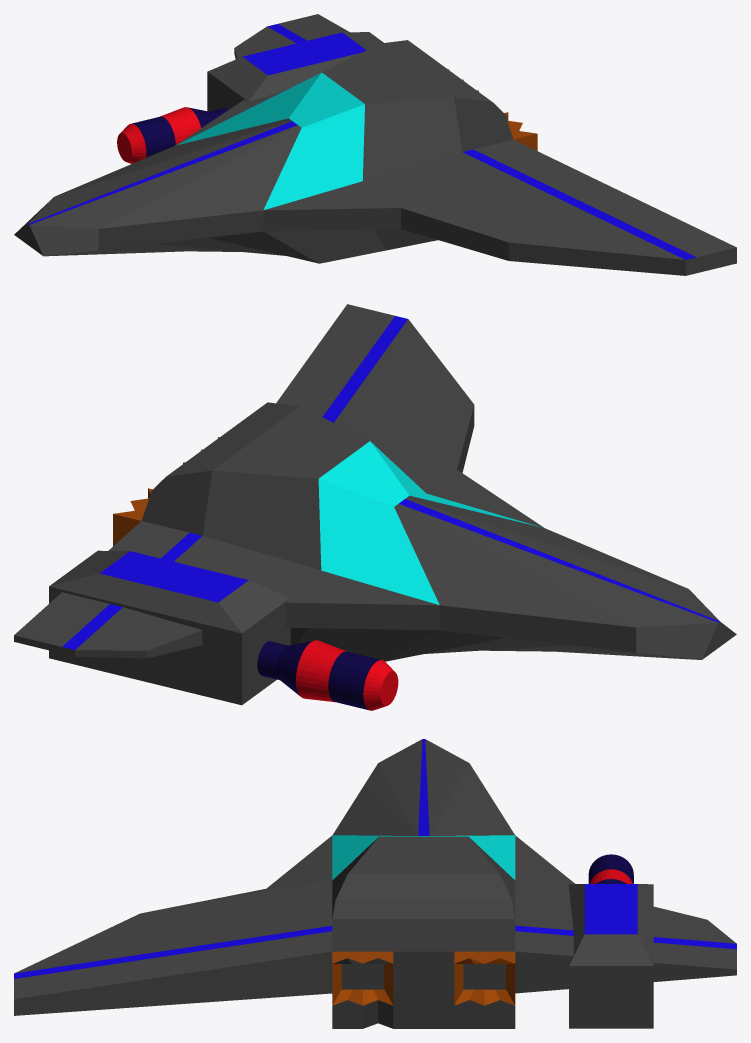
The model's file is NonSemetrical spaceShip.fbx.
3 views of the same model, one above another, from view 1: azimuth 30°, elevation 25°; view 2: azimuth 150°, elevation 25°; view 3: azimuth 270°, elevation 25° (orthographic). The views are drawn at different scales.
Parts seen in each view (by area): view 1: Cube, Cube.001, Cylinder; view 2: Cube, Cube.001, Cylinder; view 3: Cube, Cube.001, Cylinder.
Boxes of the visible parts, <box> form: Cube: <box>14,14,736,275</box>; Cube.001: <box>207,32,383,111</box>; Cylinder: <box>117,107,228,163</box>; Cube: <box>14,304,736,661</box>; Cube.001: <box>49,550,290,705</box>; Cylinder: <box>257,640,398,710</box>; Cube: <box>14,739,736,1028</box>; Cube.001: <box>569,884,653,1028</box>; Cylinder: <box>588,854,633,883</box>.
Bounding box in the file's own units: 791 × 175 × 667.
